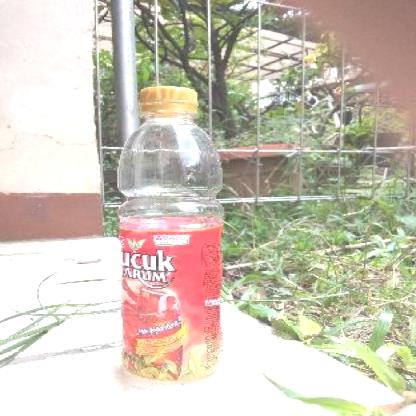plastic_bottles: (115, 84, 229, 389)
